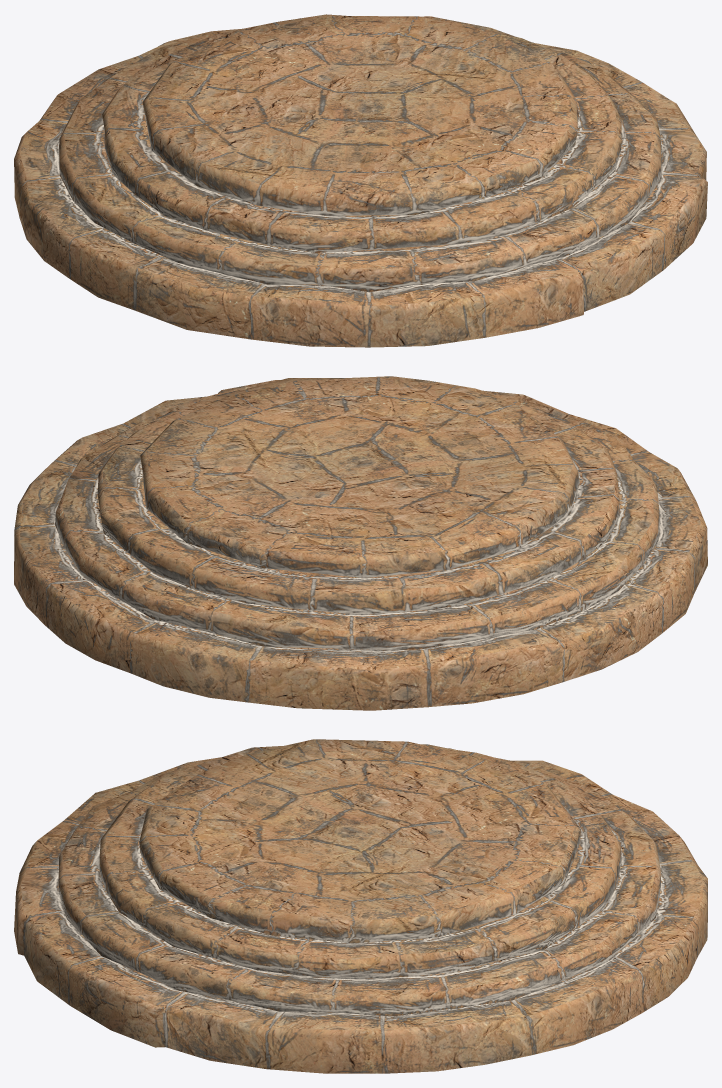
Rendered from stone_platform.glb.
The picture shows the model from 3 angles, top to bottom: view 1: azimuth 30°, elevation 25°; view 2: azimuth 150°, elevation 25°; view 3: azimuth 270°, elevation 25°; orthographic projection.
Parts seen in each view (by area): view 1: Cylinder001; view 2: Cylinder001; view 3: Cylinder001.
Boxes of the visible parts, <box> form: Cylinder001: <box>14,14,707,347</box>; Cylinder001: <box>14,376,707,710</box>; Cylinder001: <box>14,739,707,1073</box>.
Bounding box in the file's own units: 396 × 63.78 × 398.
1 material, 1 textured.
